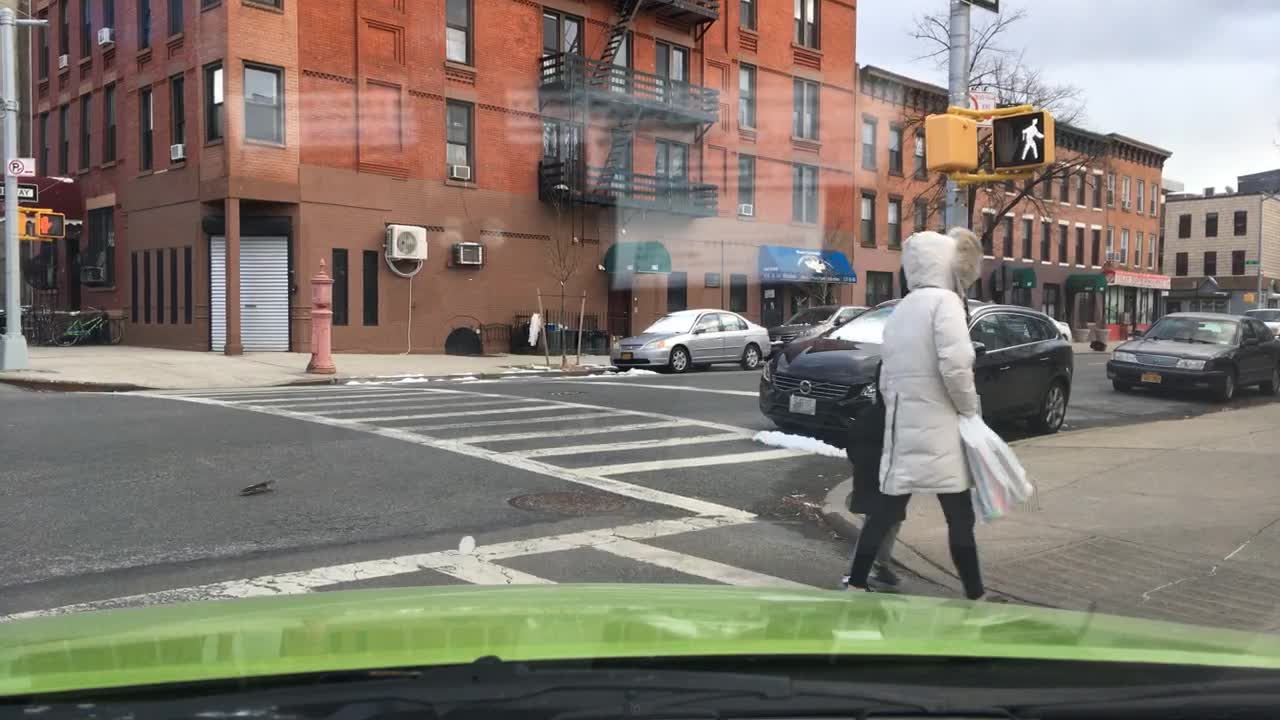bike: (50, 308, 114, 345)
car: (758, 296, 1074, 433), (608, 306, 771, 372), (766, 304, 873, 353), (1049, 320, 1071, 342), (1260, 313, 1278, 328)
person: (844, 226, 1034, 606), (839, 360, 915, 591), (1104, 309, 1278, 402)
traffic light: (924, 111, 977, 172), (36, 211, 65, 236), (14, 207, 36, 238), (1240, 290, 1256, 307)
traffic sign: (992, 107, 1053, 171), (965, 87, 990, 127), (0, 183, 37, 199), (5, 158, 36, 175), (969, 0, 1001, 14), (1244, 257, 1258, 266)
